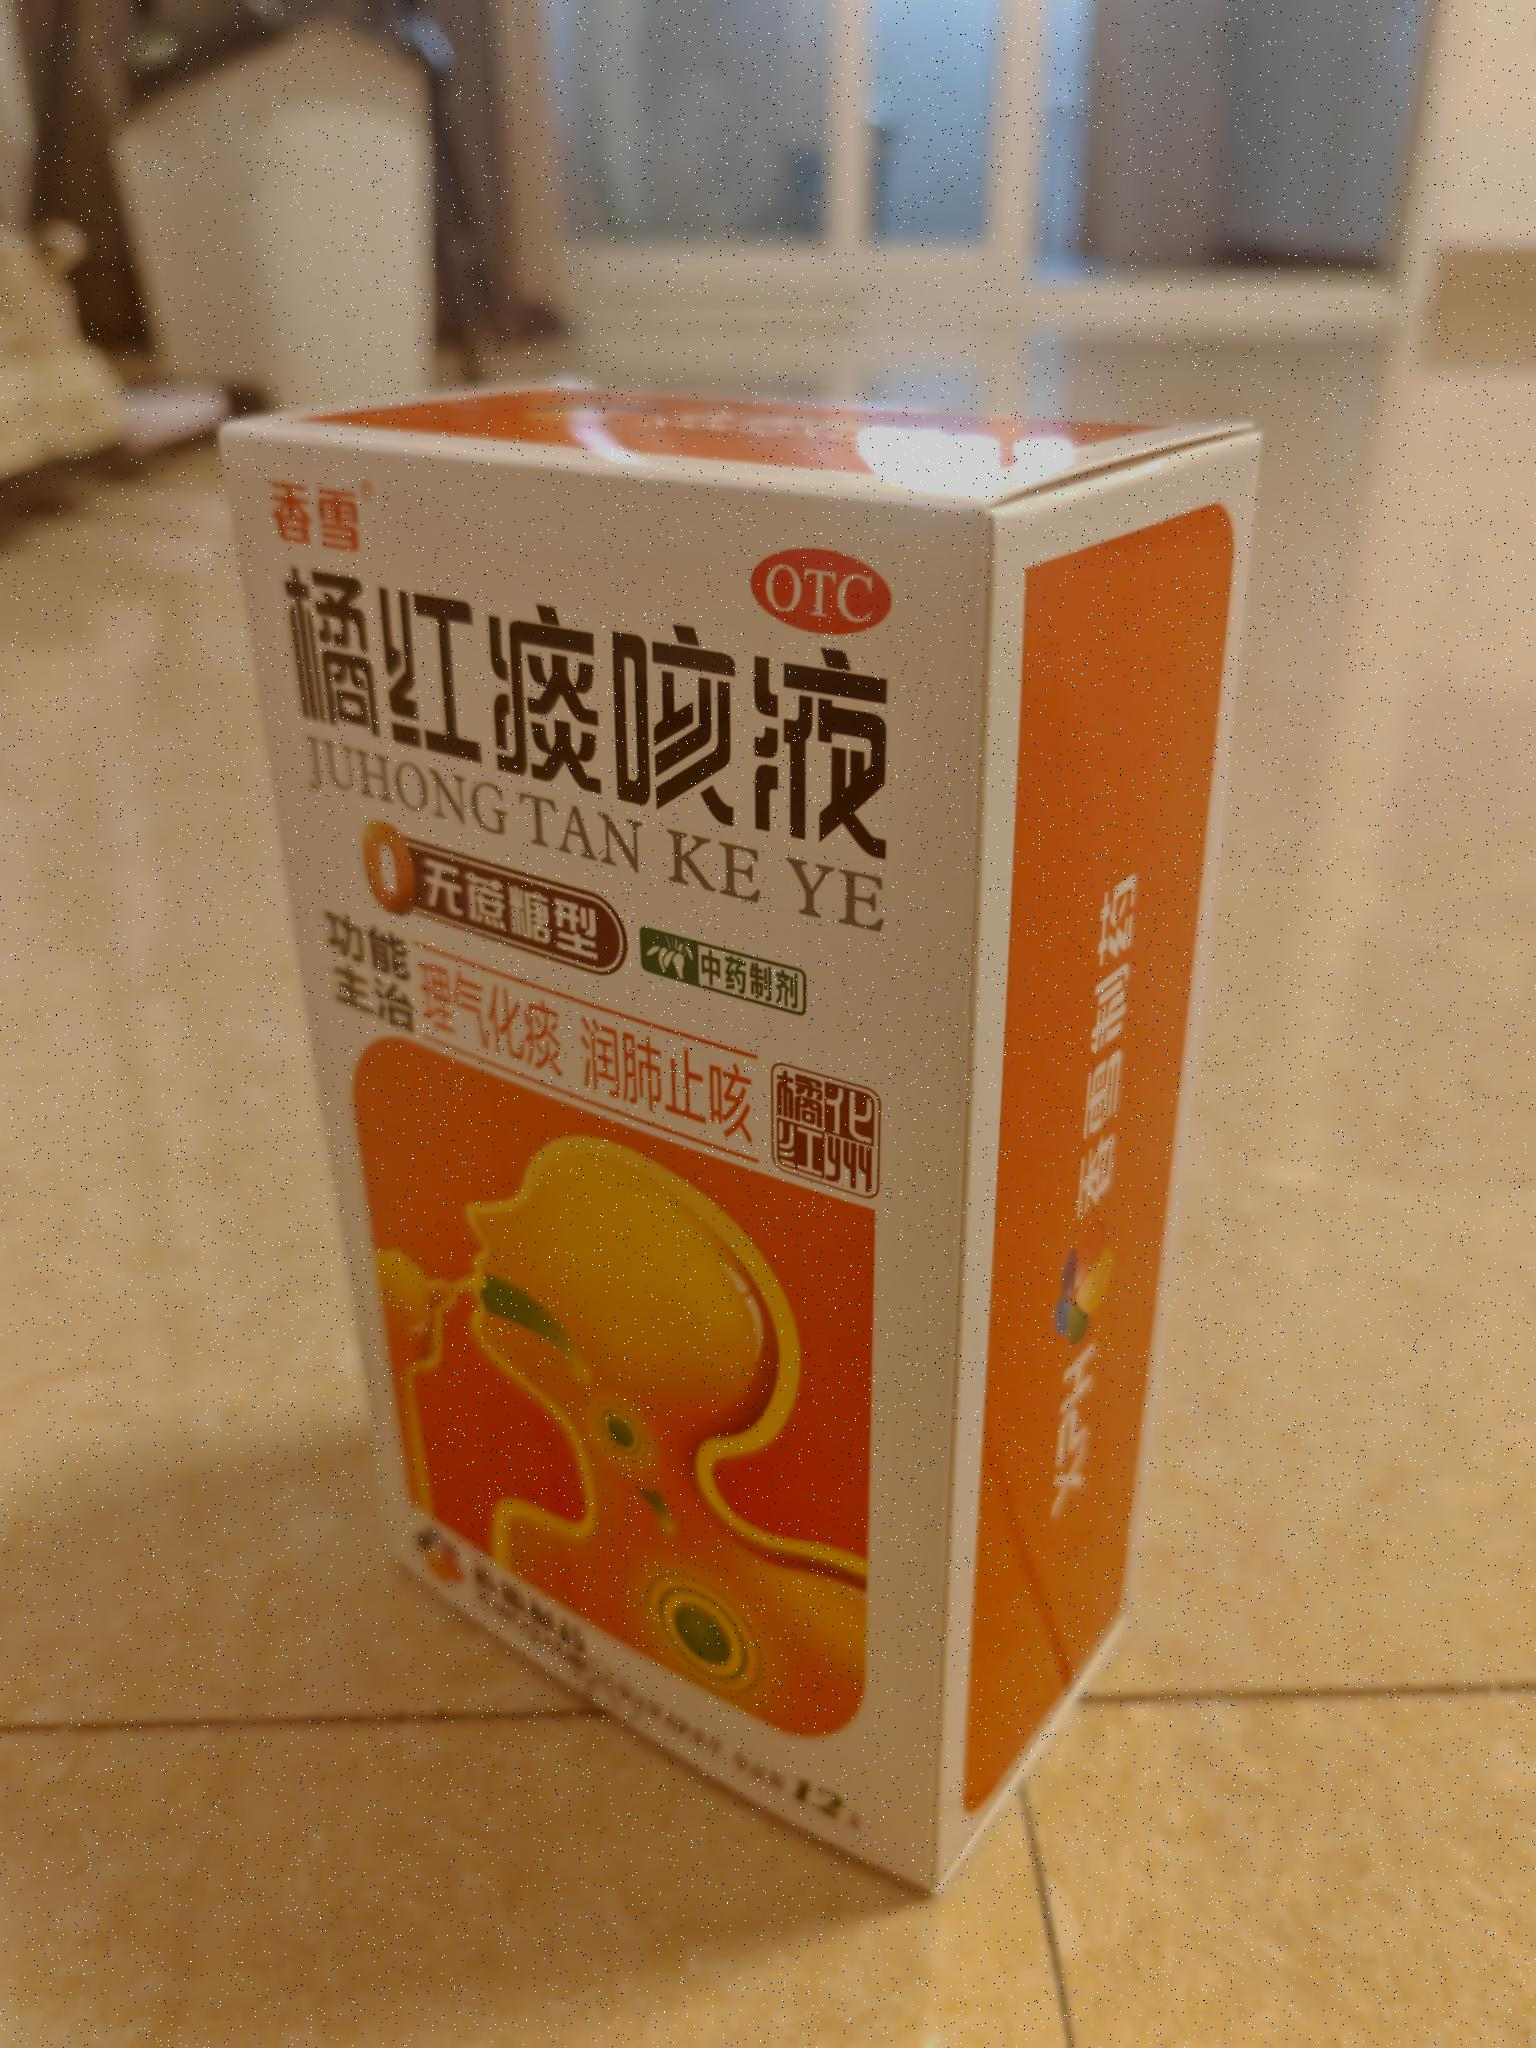Medicine1: (194, 358, 1275, 1909)
